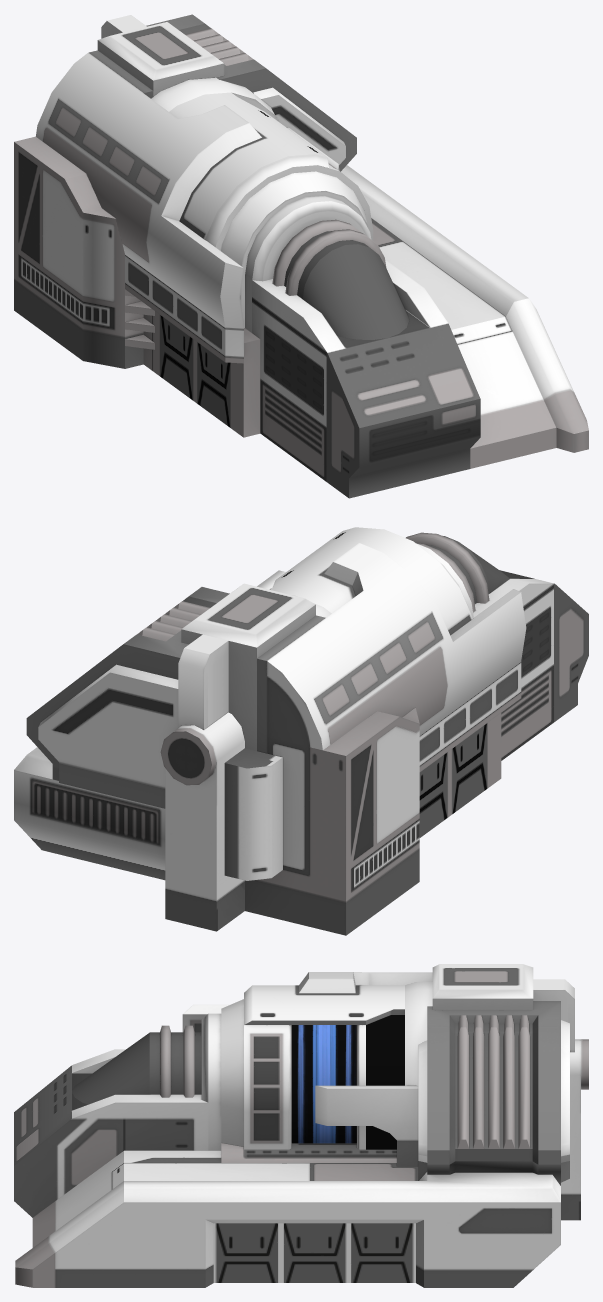
The model's file is fuel-plant.glb.
The picture shows the model from 3 angles, top to bottom: view 1: azimuth 30°, elevation 25°; view 2: azimuth 150°, elevation 25°; view 3: azimuth 270°, elevation 25°; orthographic projection. The views are drawn at different scales.
Visible parts, largest first — view 1: fusion-power-station; view 2: fusion-power-station; view 3: fusion-power-station.
Boxes of the visible parts, x1,y1,x2,y2 form: fusion-power-station: (14,14,588,498); fusion-power-station: (14,527,588,935); fusion-power-station: (14,964,588,1287).
Size of the model in its own units: 4.6 by 3.81 by 8.53.
2 materials, 2 textured.
